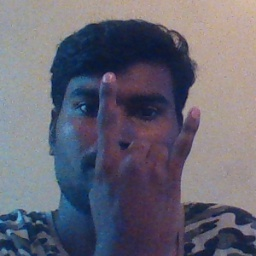V: (86, 66, 208, 255)
